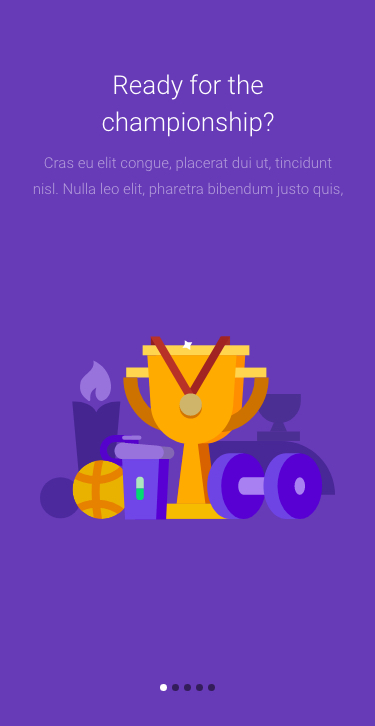Image: (40, 336, 336, 521)
PageIndicator: (159, 683, 216, 693)
Text: (33, 156, 344, 199), (103, 74, 275, 138)
